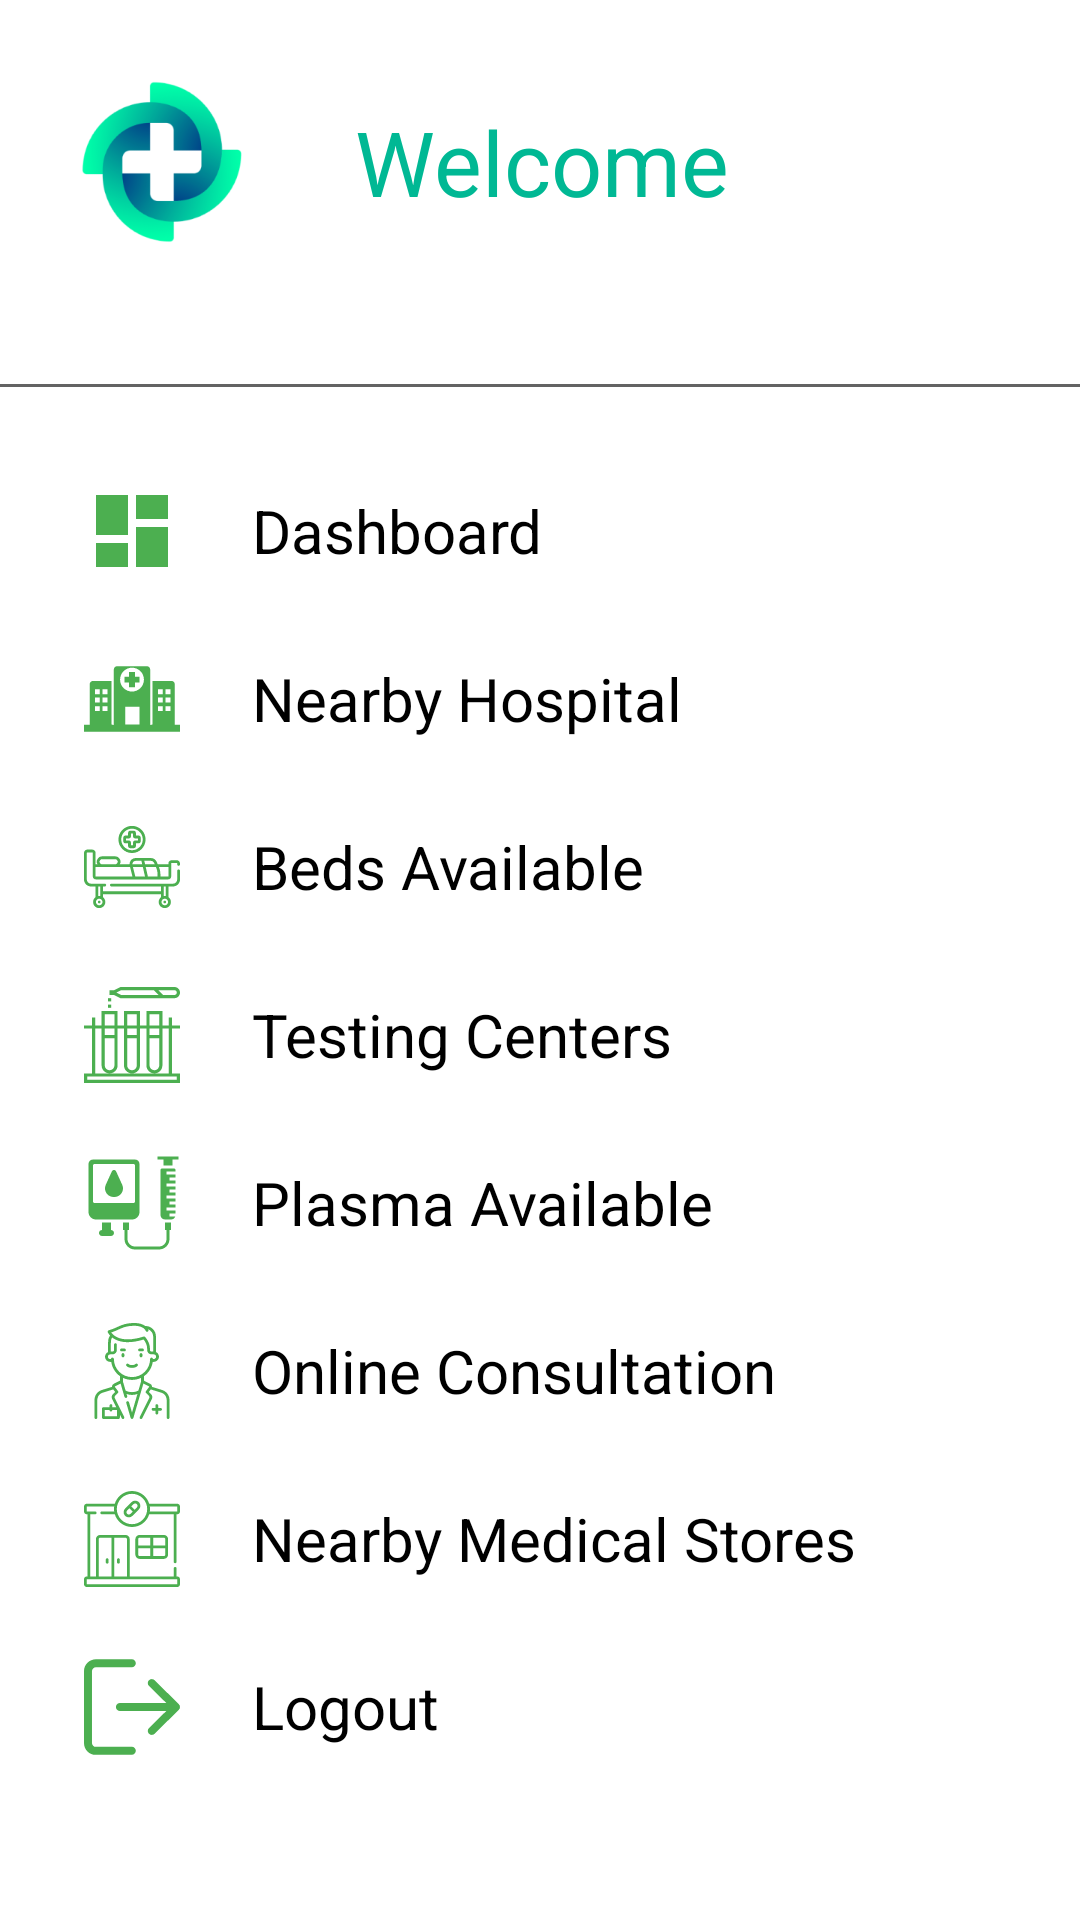

Point at icon controls on the screen. Image size 1080×1920, points as (x=x, y=y).
blood bag: (x=133, y=1203)
doctor: (x=132, y=1371)
hospital bed: (x=132, y=867)
hospital buildings: (x=132, y=699)
laboratory: (x=132, y=1035)
pharmacy: (x=132, y=1539)
